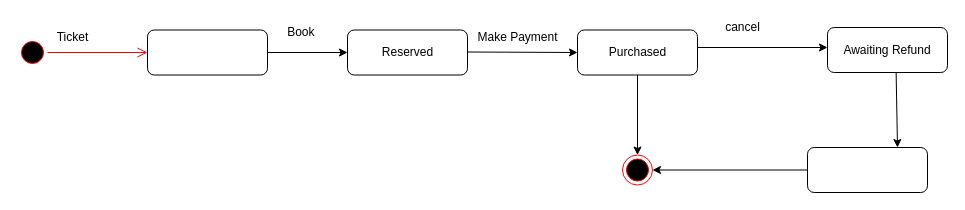
Some shapes in this 965 by 210 pixel diagram are drawn without their labels. Each missing label, with the centre of its shape:
"Available" belongs at [207,52].
"Cancelled" belongs at [867,169].
